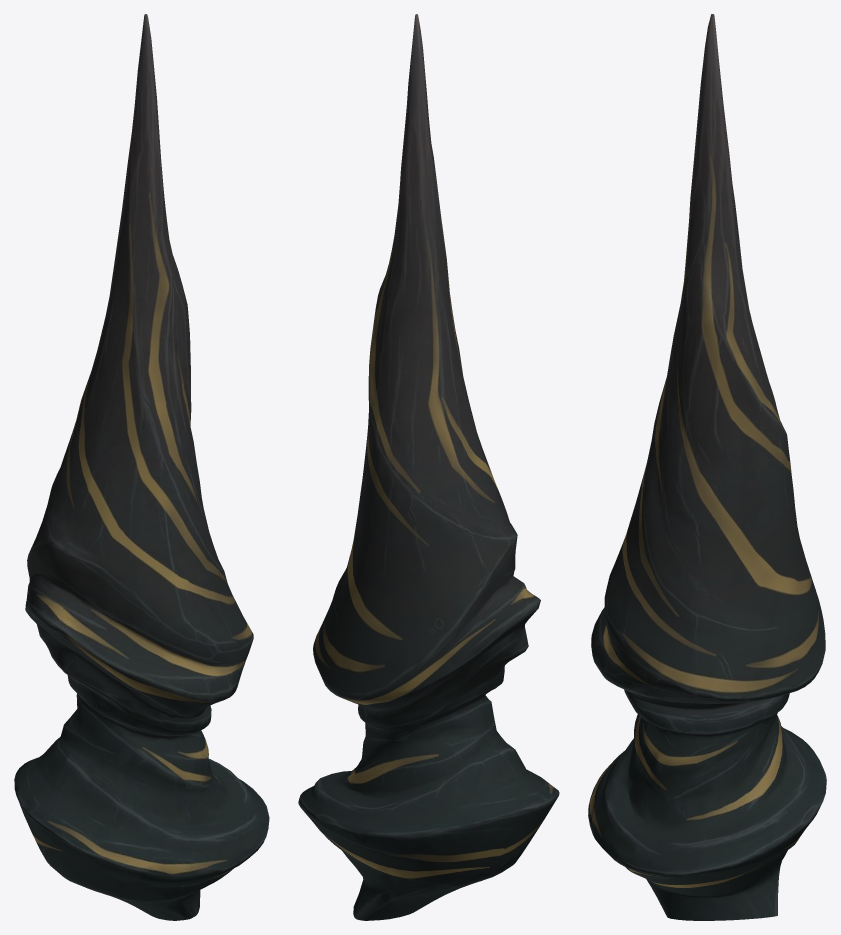
File: spire_01_c.glb
3 views of the same model, side by side, from view 1: azimuth 30°, elevation 25°; view 2: azimuth 150°, elevation 25°; view 3: azimuth 270°, elevation 25° (orthographic).
Visible parts, largest first — view 1: SM_KC_SPIRES_01_C; view 2: SM_KC_SPIRES_01_C; view 3: SM_KC_SPIRES_01_C.
Part boxes in pixels (bbox=[...]): SM_KC_SPIRES_01_C: bbox=[14, 14, 269, 920]; SM_KC_SPIRES_01_C: bbox=[298, 14, 559, 920]; SM_KC_SPIRES_01_C: bbox=[588, 14, 826, 920].
Size of the model in its own units: 4.04 by 14.91 by 3.59.
1 material, 1 textured.
